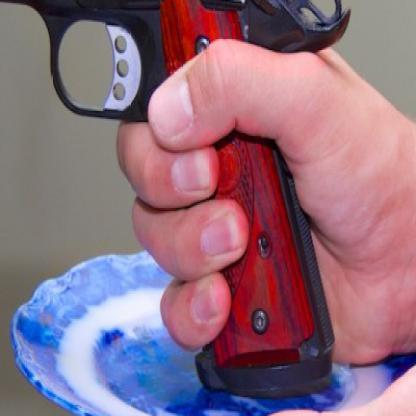gun: (0, 0, 365, 404)
